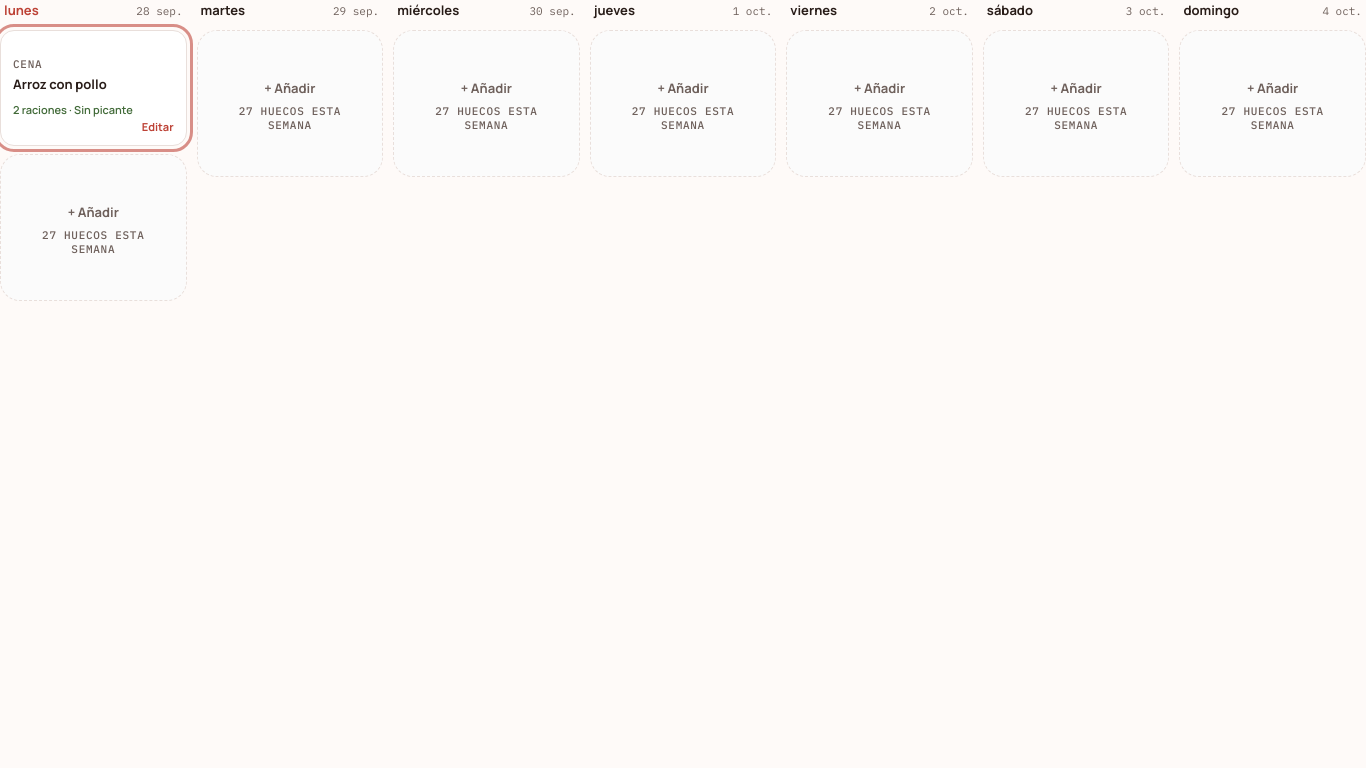
Test case: weekly plan board › returns focus to the meal card after Escape and the close button
Press Enter
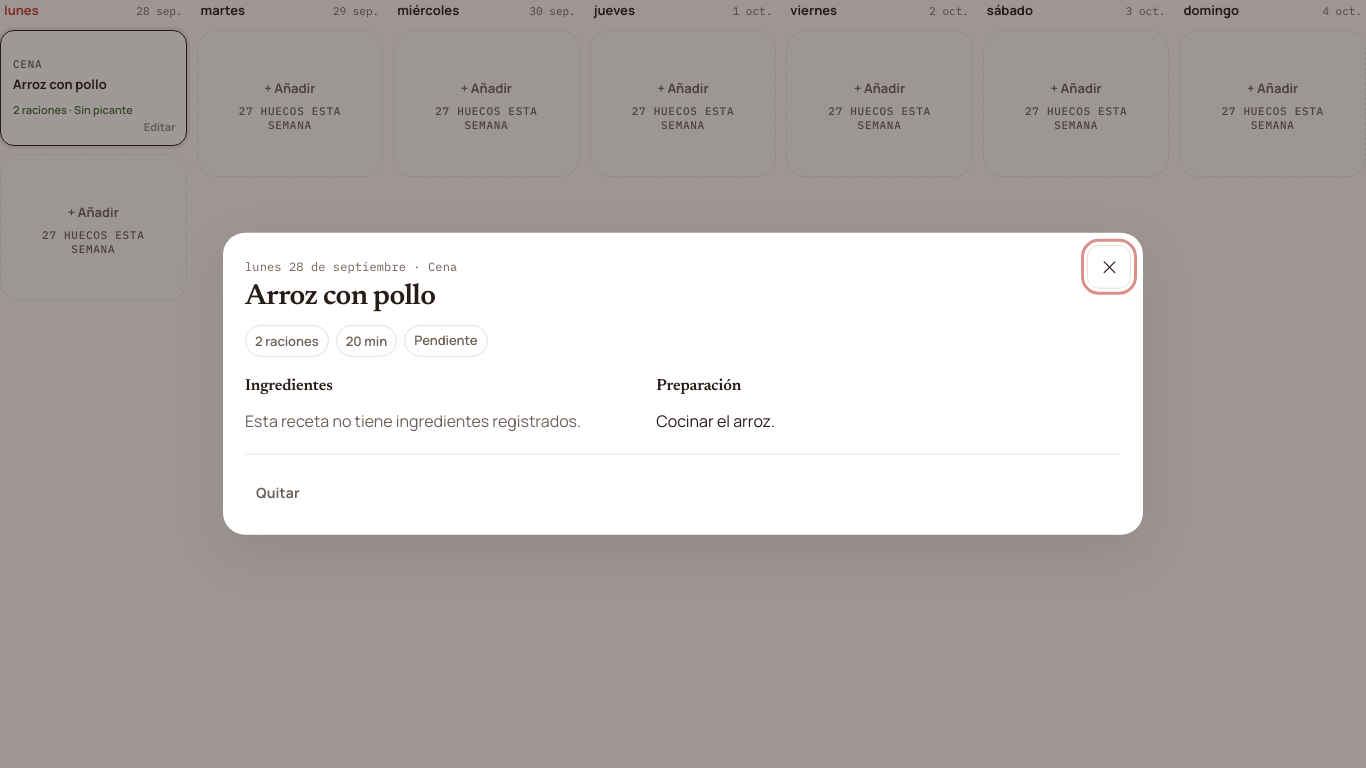
Expected: the dialog is shown, [223, 233, 1143, 535]
Press Escape
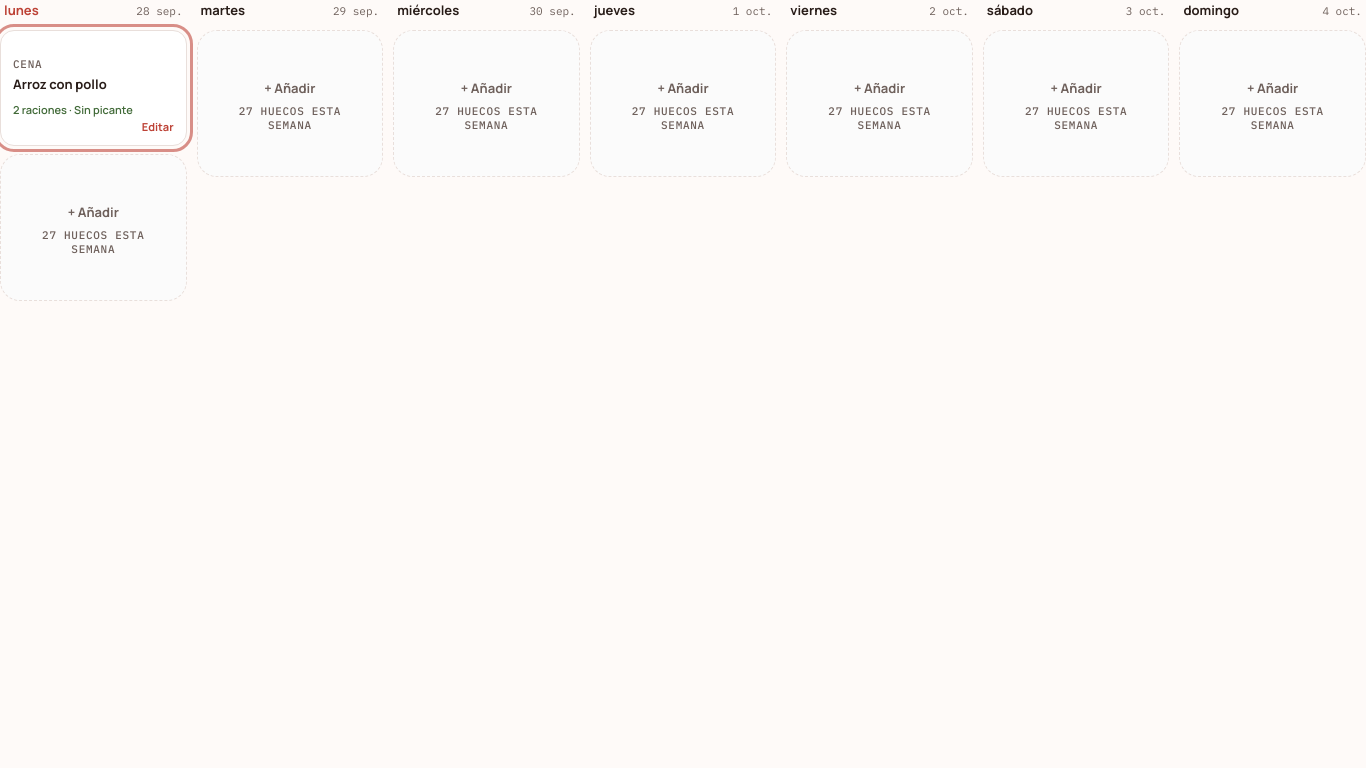
Expected: the dialog is gone
Press Enter
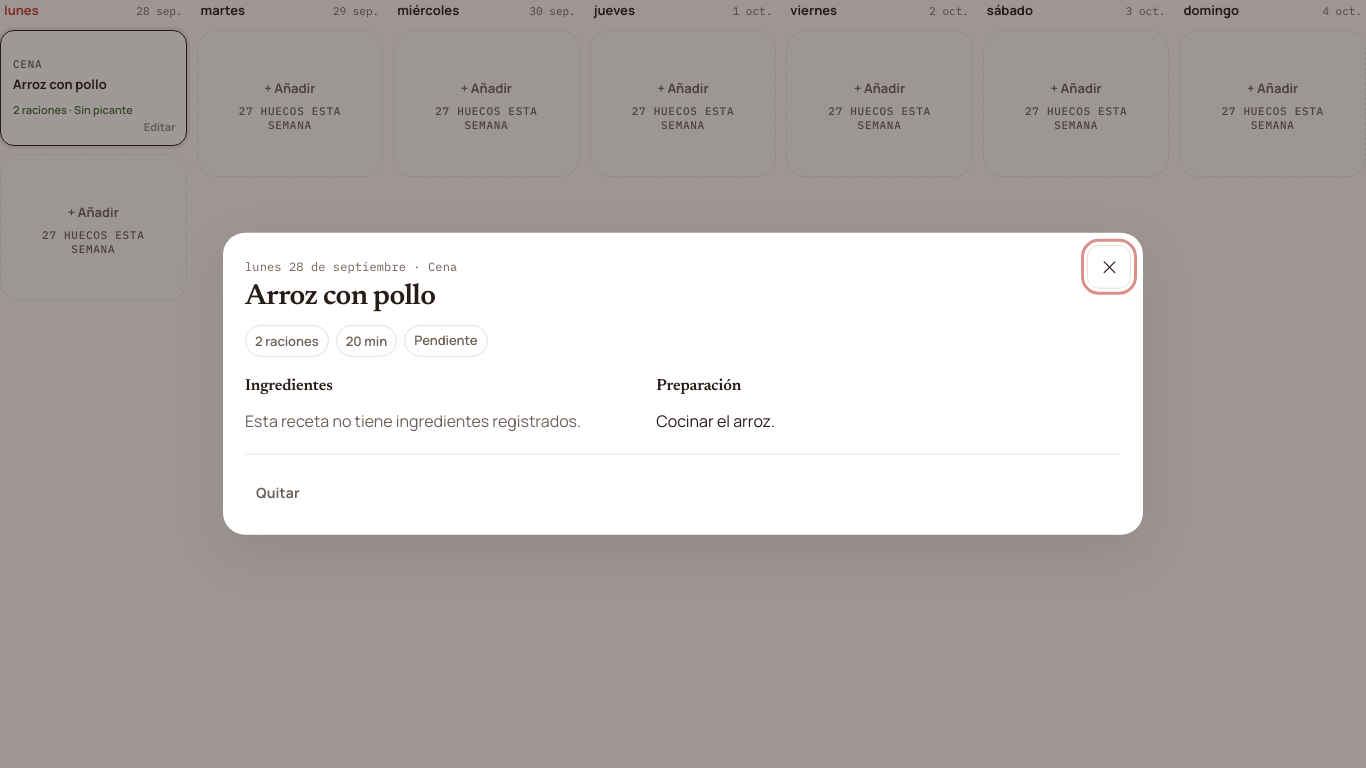
Expected: the dialog is shown, [223, 233, 1143, 535]
Click the button named "Cerrar".
click(1109, 267)  # box [1087, 245, 1131, 289]
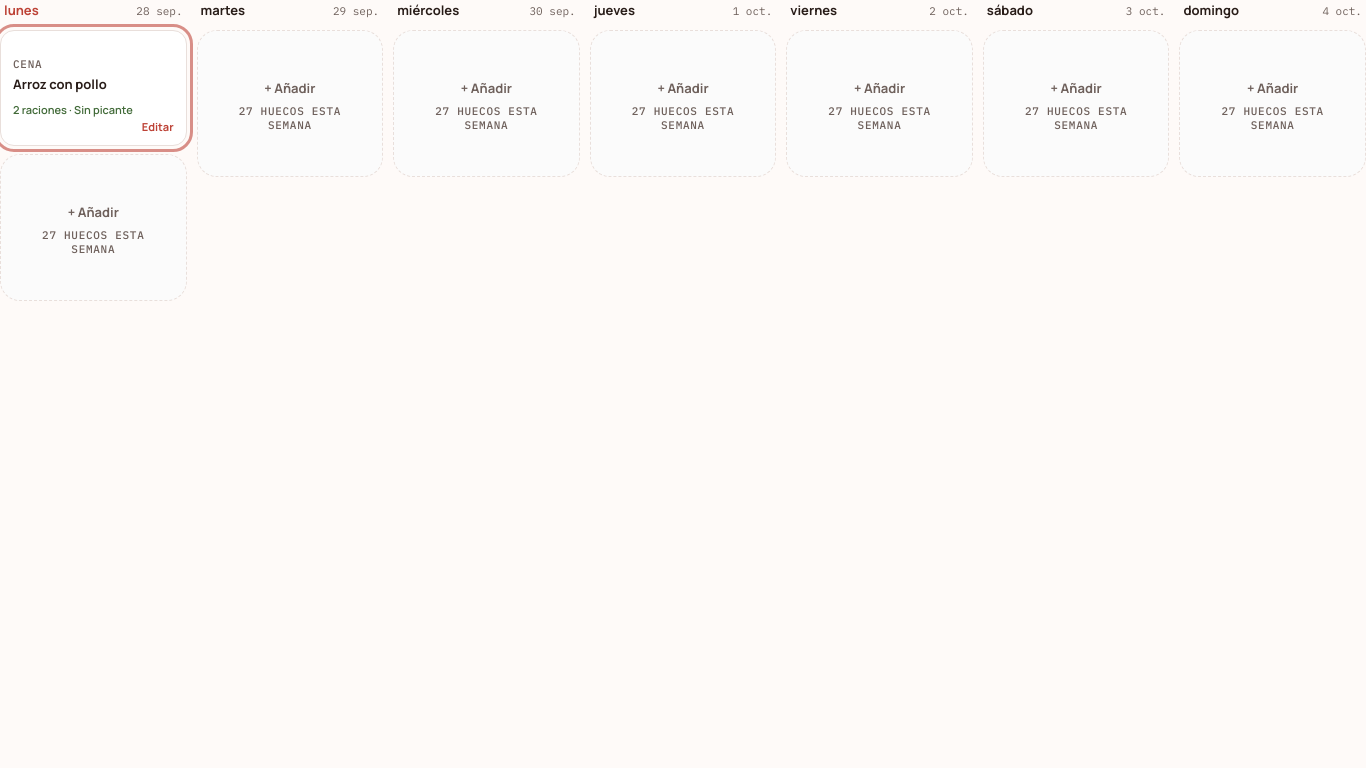
Expected: the dialog is gone
